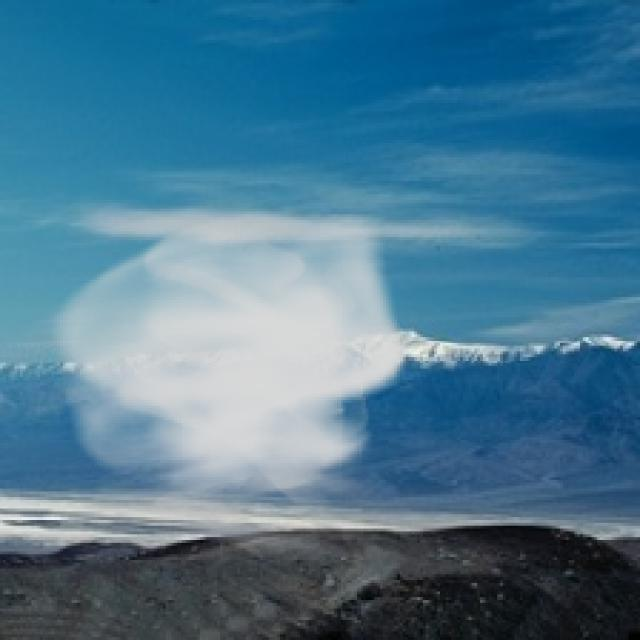smoke: (40, 203, 411, 566)
